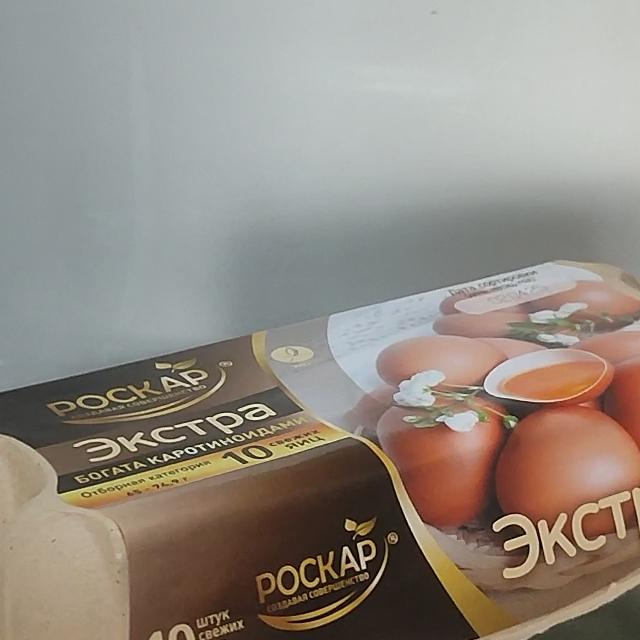egg: (0, 250, 640, 640)
